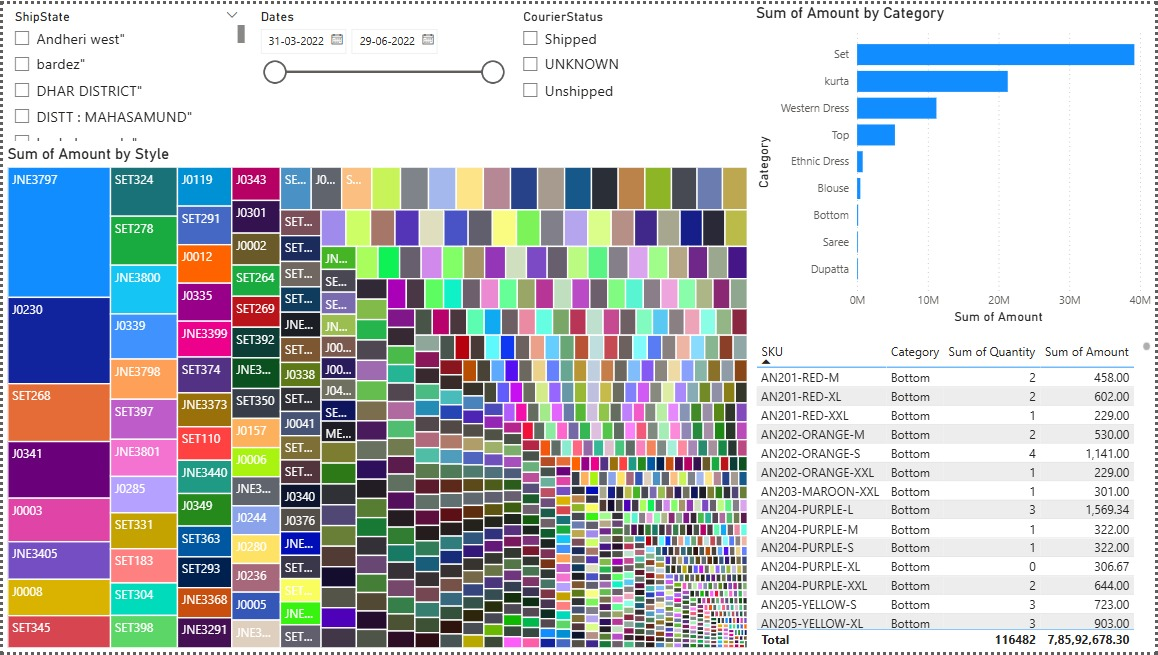

Layout of this report page (visuals, bound fields, positions):
{"tool":"powerbi","page":{"name":"Page 2","canvas":[1280,720],"ordinal":1},"visuals":[{"type":"clusteredBarChart","fields":{"Category":["SalesData.Category"],"Y":["Sum(SalesData.Amount)"]},"box":[831.7,0,448.3,360],"z":0},{"type":"tableEx","fields":{"Values":["SalesData.SKU","SalesData.Category","Sum(SalesData.Quantity)","Sum(SalesData.Amount)"]},"box":[831.7,370,448.3,350],"z":1000},{"type":"treemap","fields":{"Values":["Sum(SalesData.Amount)"],"Group":["SalesData.Style"]},"box":[0,156.7,831.7,563.3],"z":2000},{"type":"slicer","fields":{"Values":["SalesData.ShipState"]},"box":[0,0,273.3,156.7],"z":2001},{"type":"slicer","fields":{"Values":["SalesData.Dates"]},"box":[273.3,0,291.7,156.7],"z":2002},{"type":"slicer","fields":{"Values":["SalesData.CourierStatus"]},"box":[565,0,266.7,156.7],"z":2003}]}

Visuals, with their boxes in screenshot pixels (x1, y1, x2, y2), scaled from the page's 1280x720 canvas onto the 1158x655 screenshot:
clusteredBarChart - SalesData.Category x Sum(SalesData.Amount): rect(752, 0, 1157, 328)
tableEx - SalesData.SKU x SalesData.Category: rect(752, 337, 1157, 654)
treemap - Sum(SalesData.Amount) x SalesData.Style: rect(0, 143, 752, 654)
slicer - SalesData.ShipState: rect(0, 0, 247, 143)
slicer - SalesData.Dates: rect(247, 0, 511, 143)
slicer - SalesData.CourierStatus: rect(511, 0, 752, 143)
